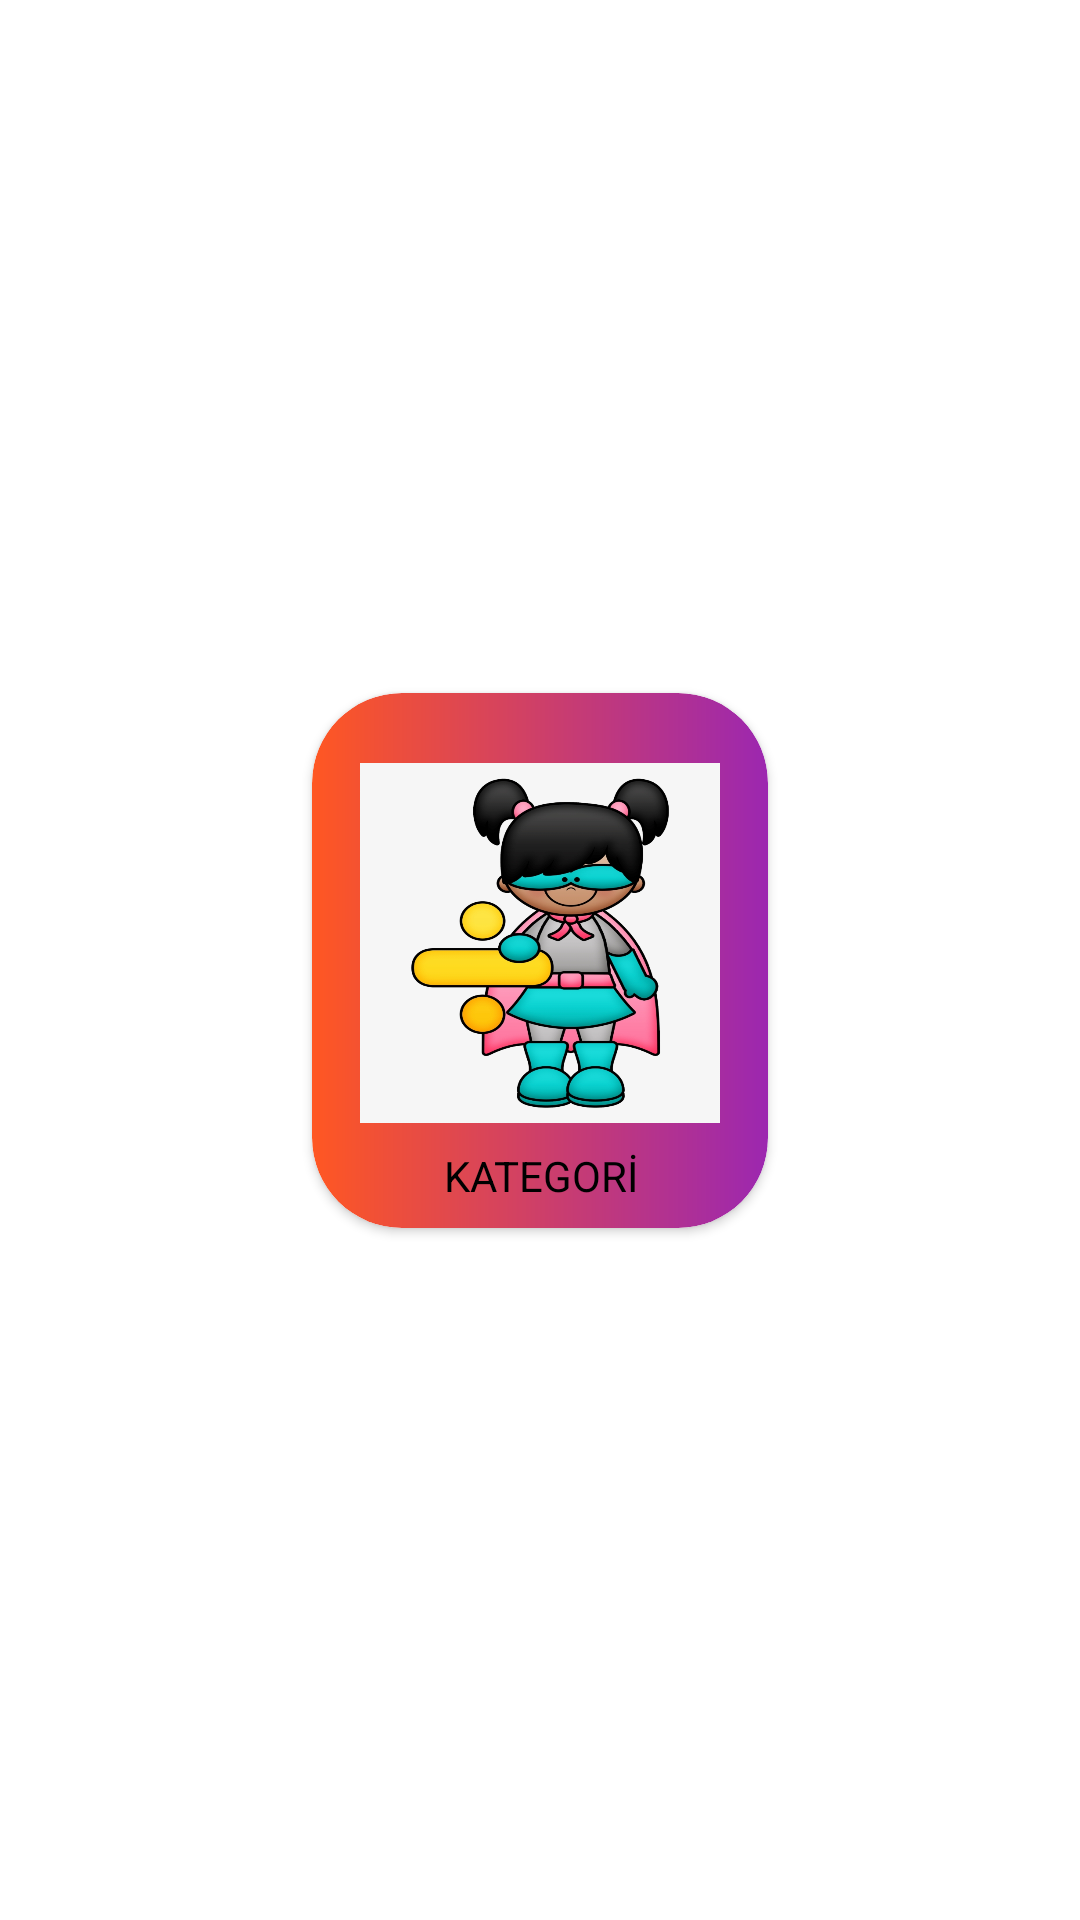

Where to tap for icons on this 1080×1920 app screen, as [x,y]:
bolme: [540,943]
